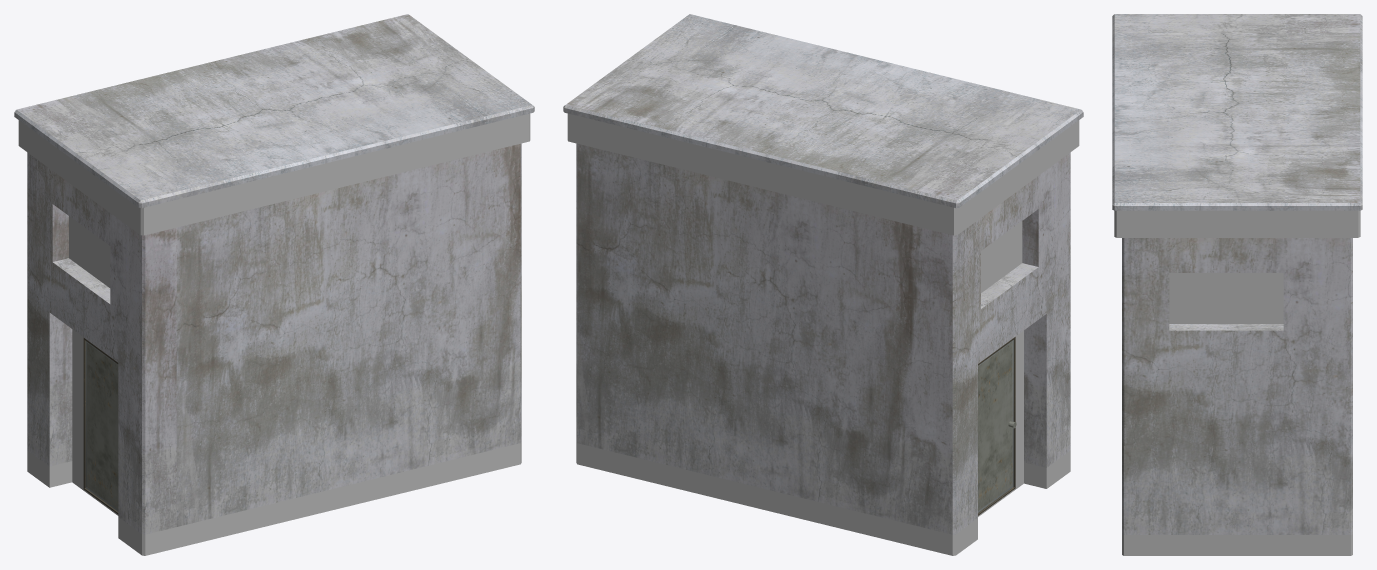
Rendered from rooftopexit_05.fbx.
3 views of the same model, side by side, from view 1: azimuth 30°, elevation 25°; view 2: azimuth 150°, elevation 25°; view 3: azimuth 270°, elevation 25° (orthographic).
Parts seen in each view (by area): view 1: rooftopexit_05; view 2: rooftopexit_05; view 3: rooftopexit_05.
Boxes of the visible parts, left/top/right/bottom form: rooftopexit_05: left=14, top=14, right=534, bottom=555; rooftopexit_05: left=563, top=14, right=1083, bottom=555; rooftopexit_05: left=1112, top=14, right=1362, bottom=555.
Size of the model in its own units: 571 by 496 by 316.
